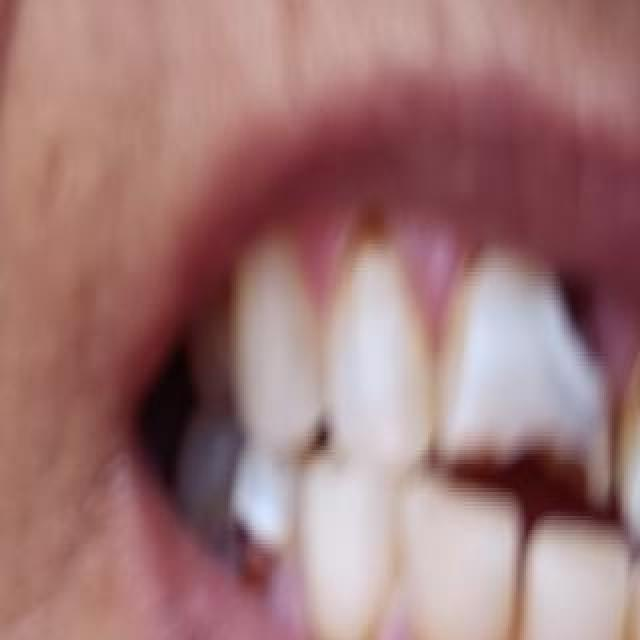cavities: (518, 193, 638, 493), (214, 459, 288, 633)
stains: (394, 500, 532, 640), (300, 570, 388, 640), (624, 266, 640, 498), (602, 556, 640, 640)
